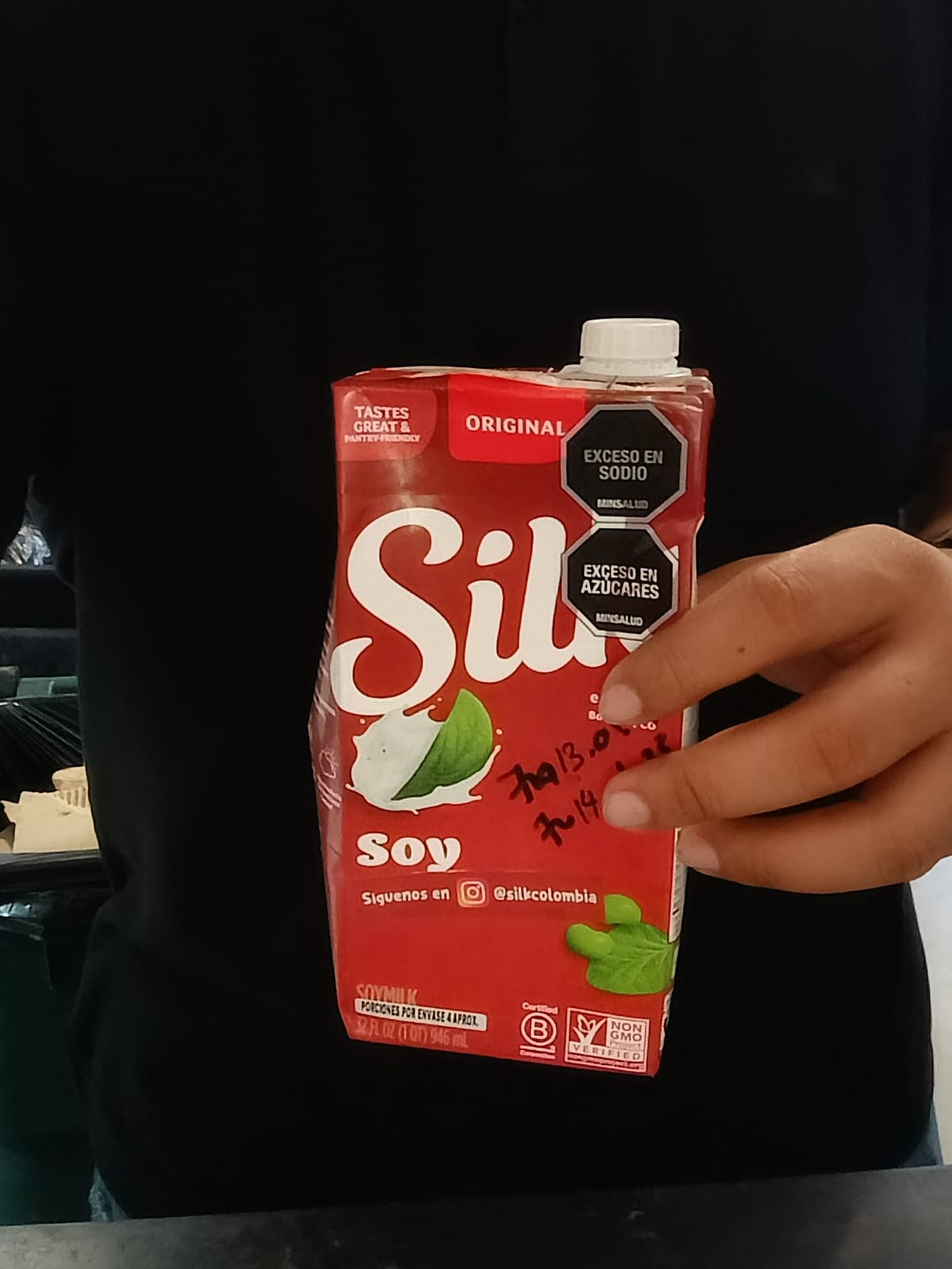Carton: (313, 373, 708, 1076)
Plastico: (579, 319, 682, 370)
